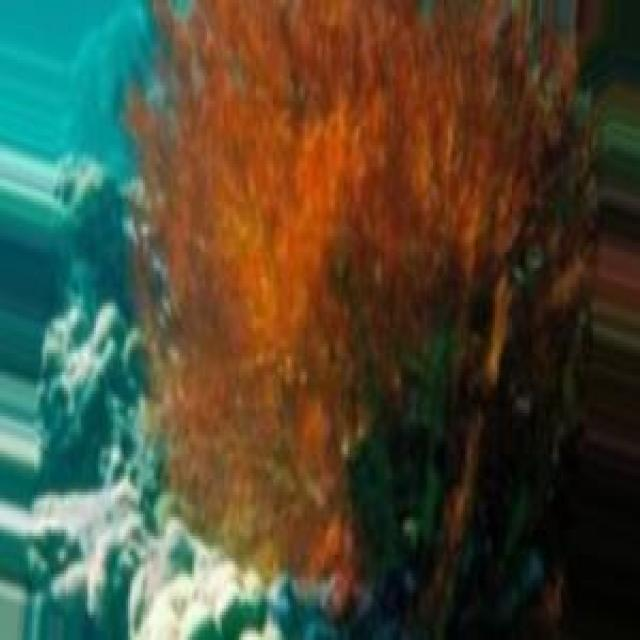Healthy: (129, 1, 579, 616)
